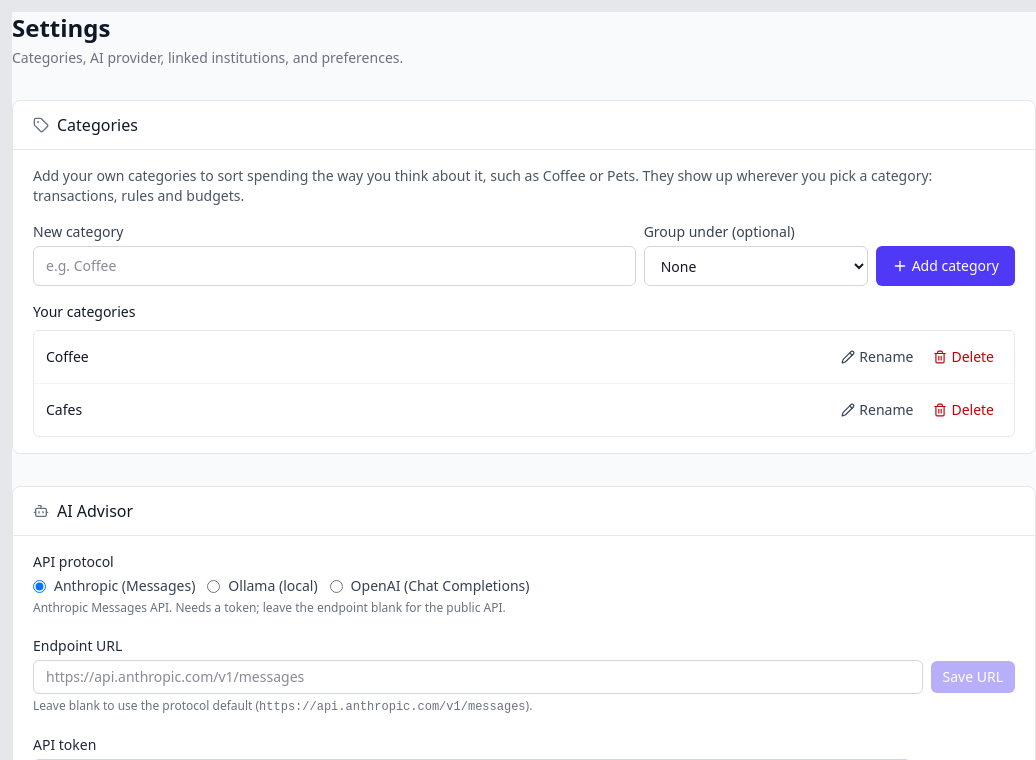
Scenario: SettingsPage categories › delete or merge › keeps the panel open with a sentence when the delete fails
Click the button with aria-label "Delete or merge Coffee" at point(964, 357), box [925,339,1002,375]
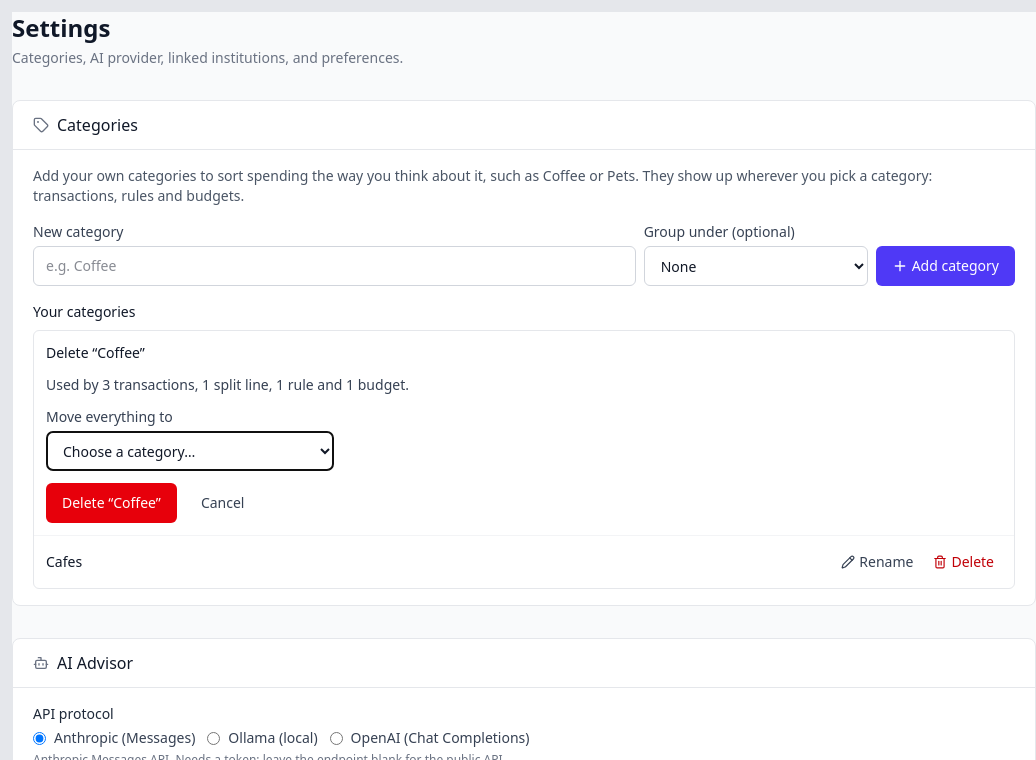
Select "Cafes" in the dropdown labelled "Move everything to" at point(190, 451), box [46,431,334,471]
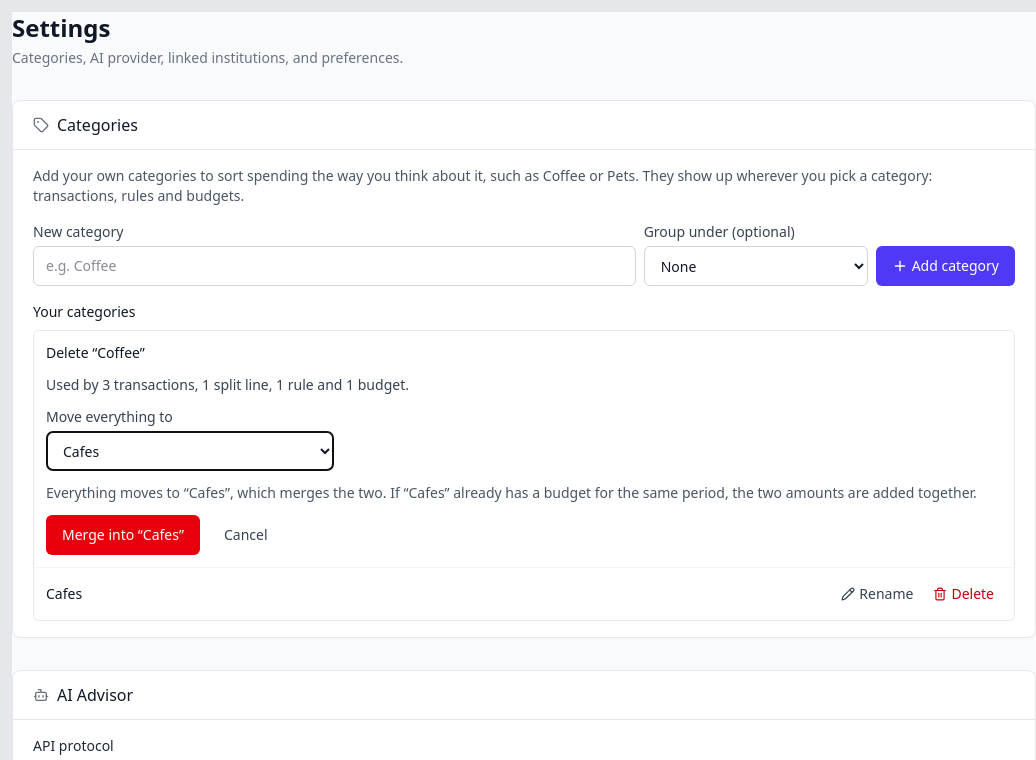
Click the button "Merge into “Cafes”" at point(123, 535), box [46,515,200,555]
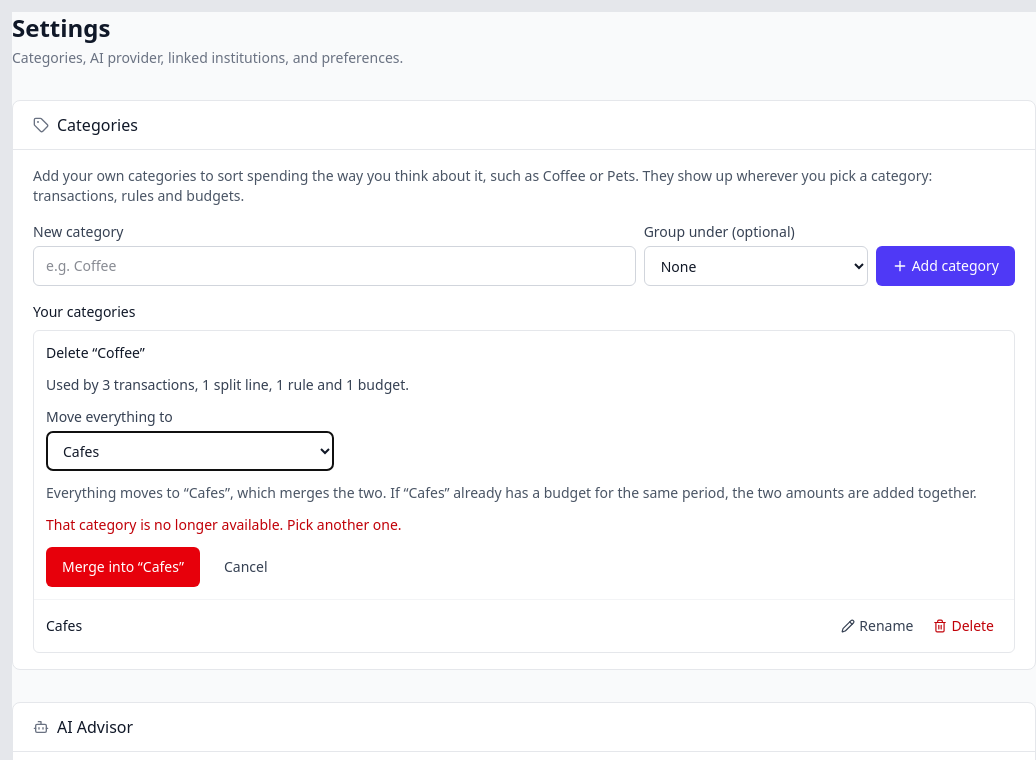
expect the button "Merge into “Cafes”" is enabled: met, box [46,547,200,587]
expect the message reads "That category is no longer available. Pick another one.": met, box [46,515,402,534]
